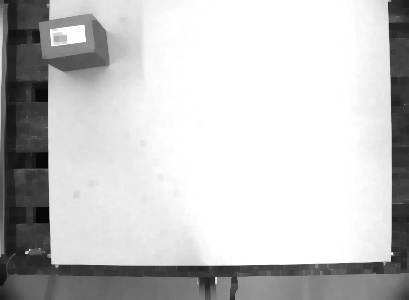b5: (36, 12, 110, 74)
